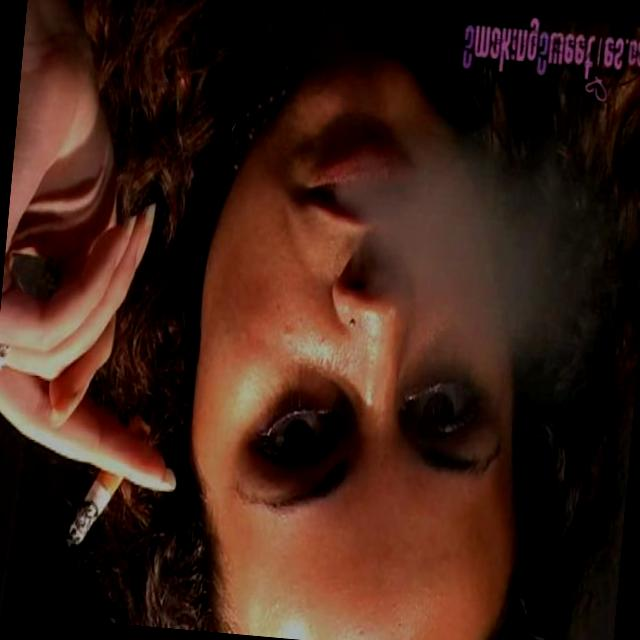smoke: (36, 389, 154, 572)
